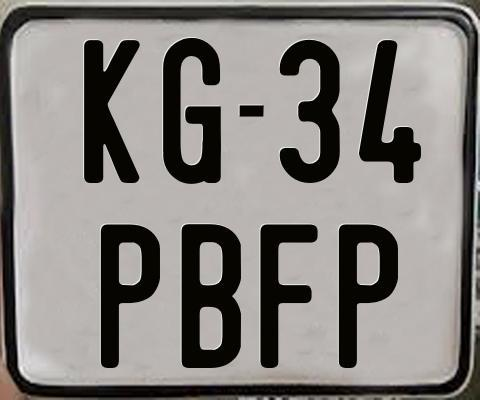3: (280, 39, 341, 185)
4: (357, 37, 420, 180)
B: (182, 221, 244, 368)
F: (259, 224, 323, 373)
G: (163, 37, 222, 188)
K: (82, 40, 139, 185)
P: (338, 224, 403, 371), (98, 223, 161, 372)
